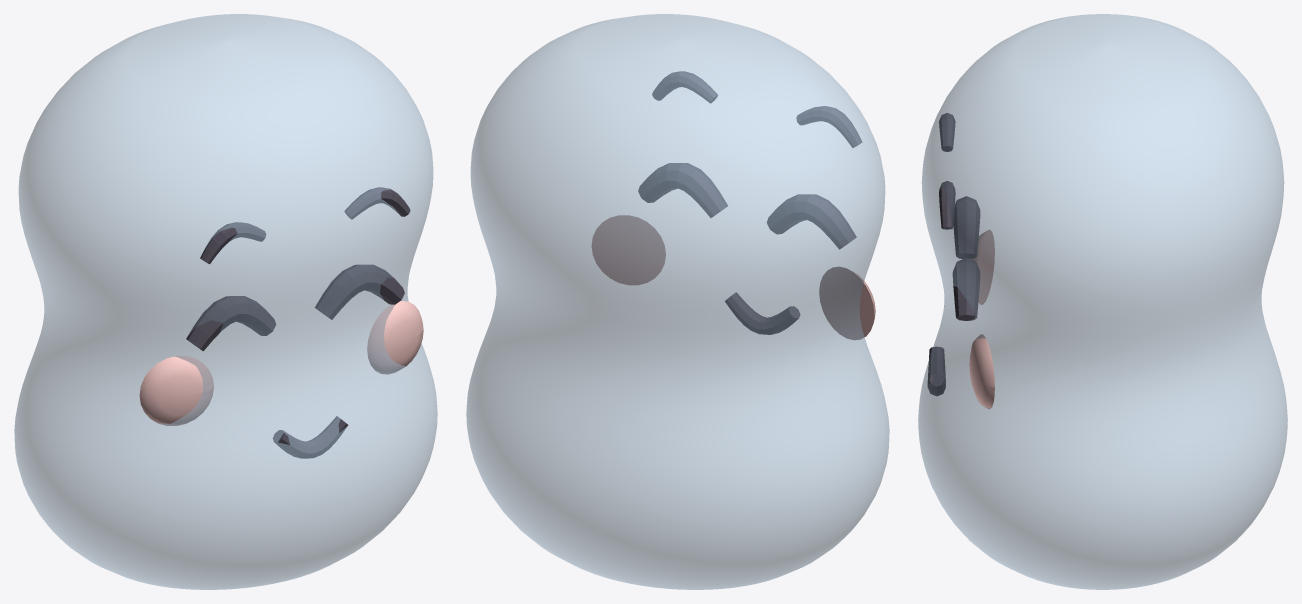
The model's file is jelly-friends-playroom-jelly-pebble-stretched-50716896__27601.glb.
3 views of the same model, side by side, from view 1: azimuth 30°, elevation 25°; view 2: azimuth 150°, elevation 25°; view 3: azimuth 270°, elevation 25° (orthographic).
Visible parts, largest first — view 1: body, blush-left, blush-right, eye-right, eye-left, mouth, brow-left, brow-right; view 2: body, blush-right, blush-left, eye-left, eye-right, mouth, brow-left, brow-right; view 3: body, eye-right, eye-left, blush-right, blush-left, mouth, brow-right, brow-left.
Part boxes in pixels (x1,y1,x2,y2): body: (14, 14, 437, 589); blush-left: (139, 356, 213, 425); blush-right: (367, 301, 423, 374); eye-right: (315, 264, 404, 319); eye-left: (186, 296, 275, 351); mouth: (272, 416, 348, 458); brow-left: (200, 222, 266, 264); brow-right: (344, 187, 410, 219); body: (466, 14, 889, 589); blush-right: (591, 215, 665, 285); blush-left: (819, 266, 875, 340); eye-left: (767, 194, 856, 249); eye-right: (638, 163, 727, 217); mouth: (725, 292, 800, 334); brow-left: (796, 106, 862, 147); brow-right: (652, 71, 717, 103); body: (918, 14, 1287, 589); eye-right: (952, 257, 980, 320); eye-left: (953, 196, 980, 258); blush-right: (969, 334, 994, 409); blush-left: (971, 230, 994, 304); mouth: (927, 346, 945, 396); brow-right: (939, 181, 955, 229); brow-left: (939, 113, 955, 151).
Bounding box in the file's own units: 0.2341 × 0.2997 × 0.2013.
